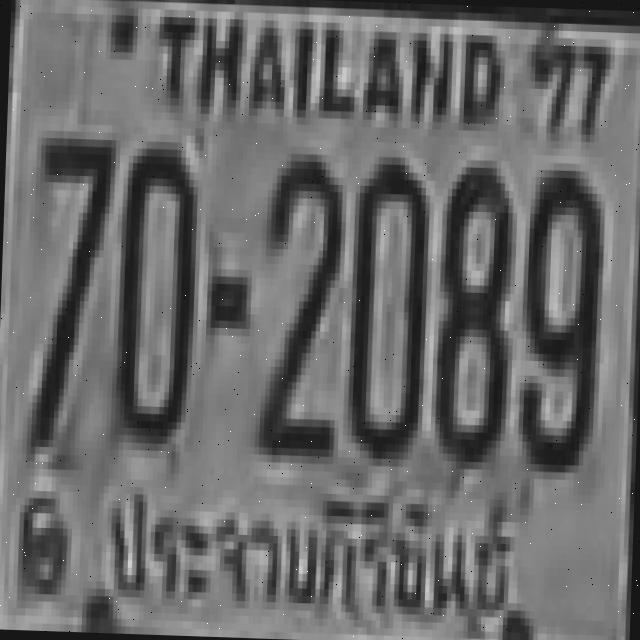0: (342, 152, 426, 456), (110, 137, 194, 440)
2: (252, 148, 341, 452)
7: (24, 130, 114, 448)
8: (430, 158, 510, 462)
9: (517, 162, 602, 466)
PrachuapKhiriKhan: (88, 466, 534, 640)
